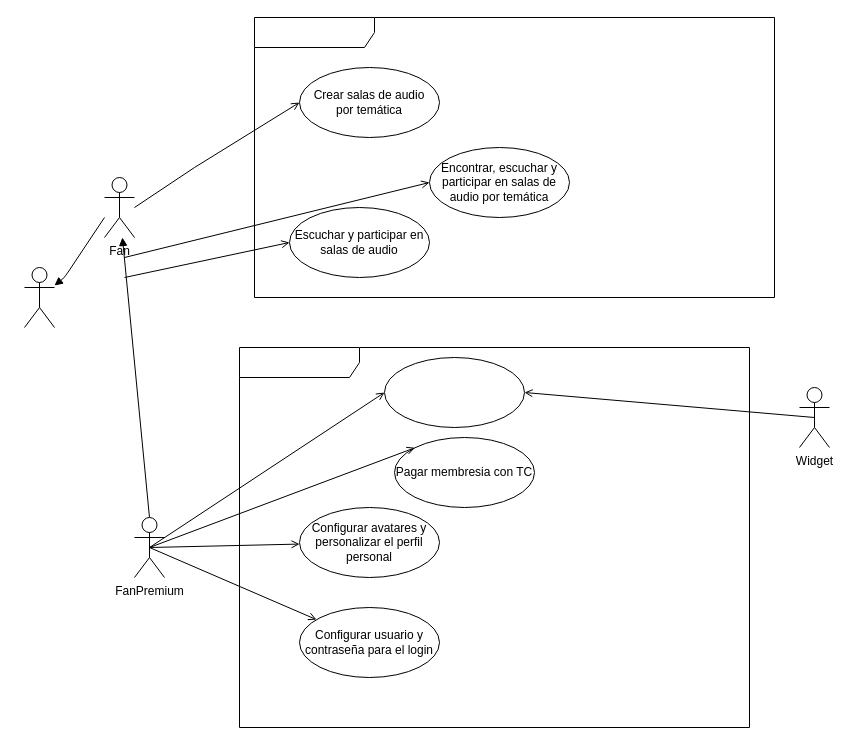
Image size: 850x745. Some labels were removed from this diagram. The shapes that lost their labels are listed below. From the top down, each one's box as (x1, y1, x2, y2) in pixels, then its label:
(254, 16, 774, 298): AudioFans Usuario free
(24, 266, 54, 328): Persona
(384, 356, 524, 428): Configurar widget para el acceso principal a la aplicacion
(238, 346, 750, 728): LovingFans: Usuario premium
